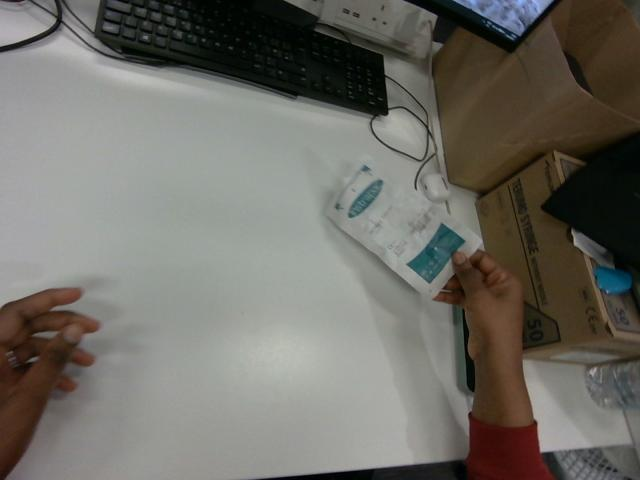gallipot: (327, 165, 481, 297)
